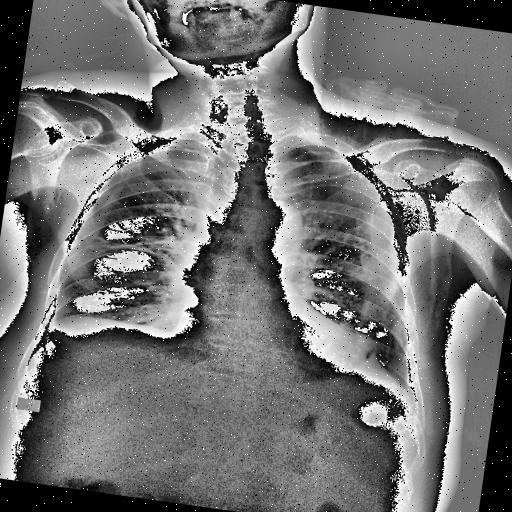0- Aortic enlargement: (234, 196, 304, 258)
10- Pleural effusion: (42, 300, 72, 346), (36, 313, 72, 343), (38, 310, 68, 342), (395, 367, 420, 403)
11- Pleural thickening: (42, 300, 72, 346), (36, 313, 72, 343), (38, 310, 68, 342), (395, 367, 420, 403), (364, 346, 376, 364)
13- Pulmonary fibrosis: (344, 242, 394, 366), (82, 232, 179, 272), (75, 234, 168, 264), (86, 231, 160, 261)
3- Cardiomegaly: (173, 288, 370, 374), (172, 293, 378, 372)
9- Other lesion: (305, 84, 473, 376), (342, 230, 391, 334), (343, 321, 390, 370)
